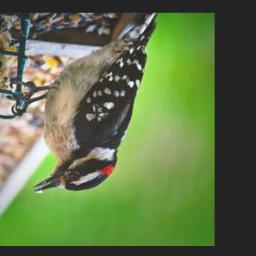Woodpecker: (7, 14, 159, 194)
